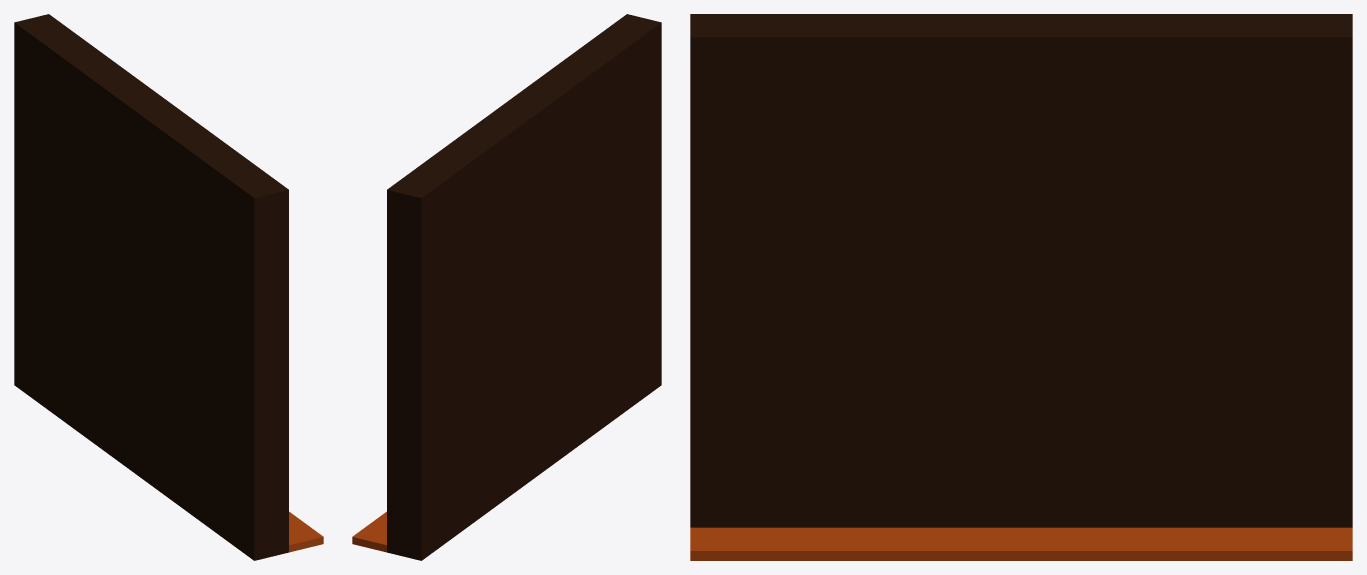
File: WallDetail.FBX
The picture shows the model from 3 angles, left to right: view 1: azimuth 30°, elevation 25°; view 2: azimuth 150°, elevation 25°; view 3: azimuth 270°, elevation 25°; orthographic projection. The views are drawn at different scales.
Parts seen in each view (by area): view 1: WallDetail; view 2: WallDetail; view 3: WallDetail.
Part boxes in pixels (x1,y1,x2,y2): WallDetail: (14,14,323,560); WallDetail: (352,14,661,560); WallDetail: (690,14,1352,560).
Bounding box in the file's own units: 0.5 × 2.5 × 3.
